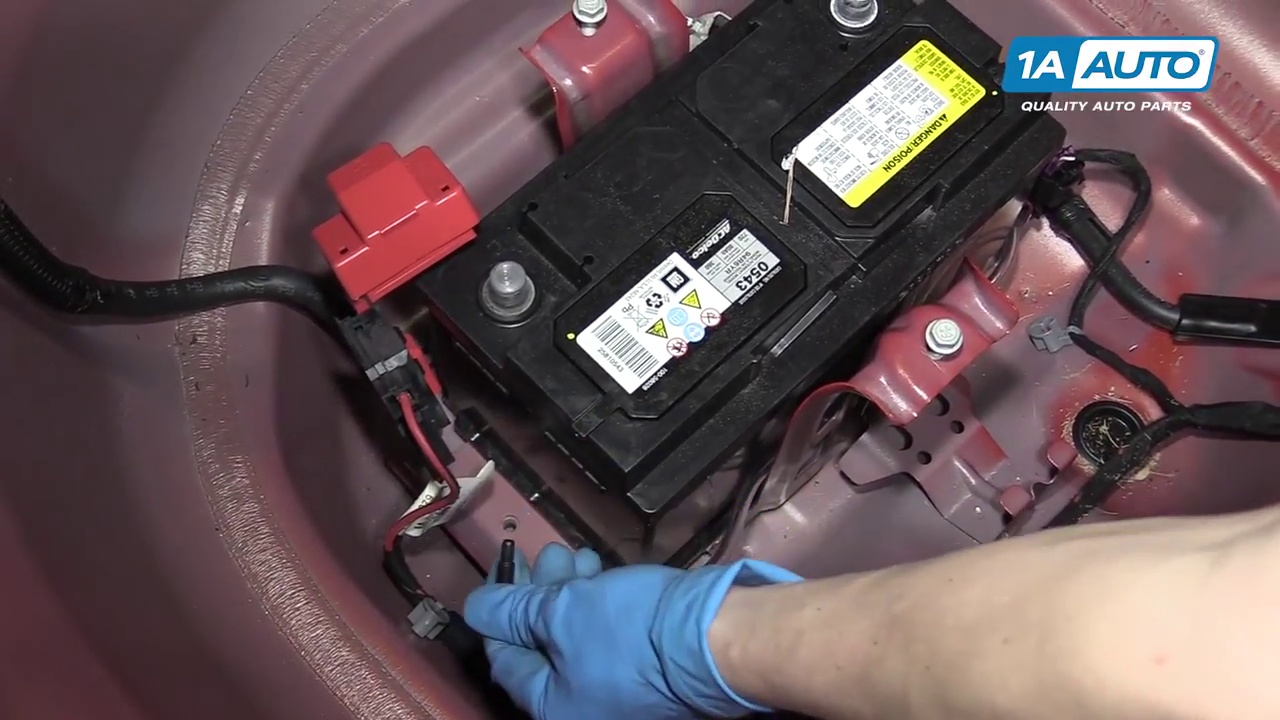battery: (434, 1, 1053, 475)
pos_disconnected: (297, 148, 556, 352)
